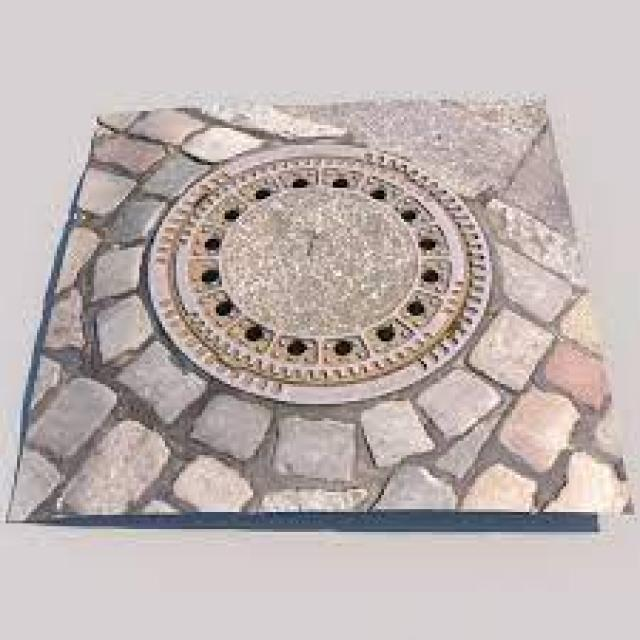manhole: (149, 144, 490, 403)
